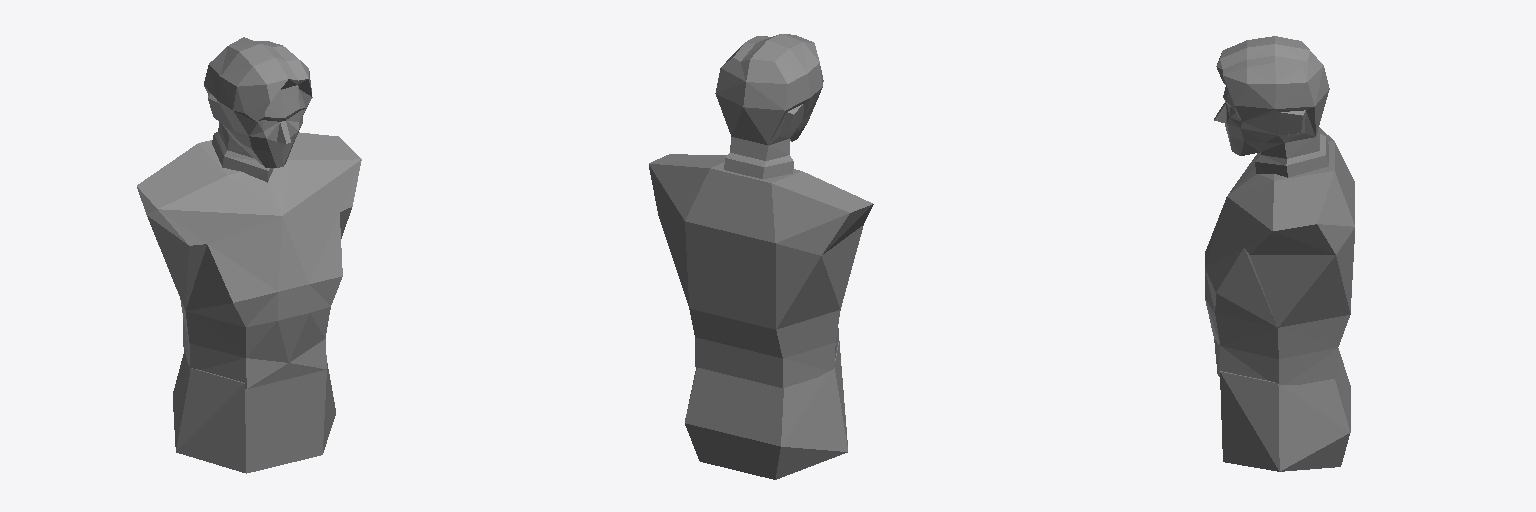
The model's file is Leon_Kennedy_cuerpo_completo.obj.
3 renders of one model, left to right at view 1: azimuth 30°, elevation 25°; view 2: azimuth 150°, elevation 25°; view 3: azimuth 270°, elevation 25°, orthographic.
Visible parts, largest first — view 1: Object_0, Object_1, Object_8; view 2: Object_0, Object_1, Object_8; view 3: Object_0, Object_8, Object_1.
Part boxes in pixels (left/top/right/bottom): Object_0: left=137, top=132, right=361, bottom=388; Object_1: left=173, top=351, right=335, bottom=473; Object_8: left=204, top=37, right=312, bottom=182; Object_0: left=649, top=154, right=873, bottom=387; Object_1: left=685, top=341, right=847, bottom=479; Object_8: left=715, top=34, right=823, bottom=178; Object_0: left=1205, top=127, right=1354, bottom=385; Object_8: left=1214, top=36, right=1329, bottom=177; Object_1: left=1220, top=348, right=1350, bottom=471.
Size of the model in its own units: 1.59 by 3.18 by 1.02.